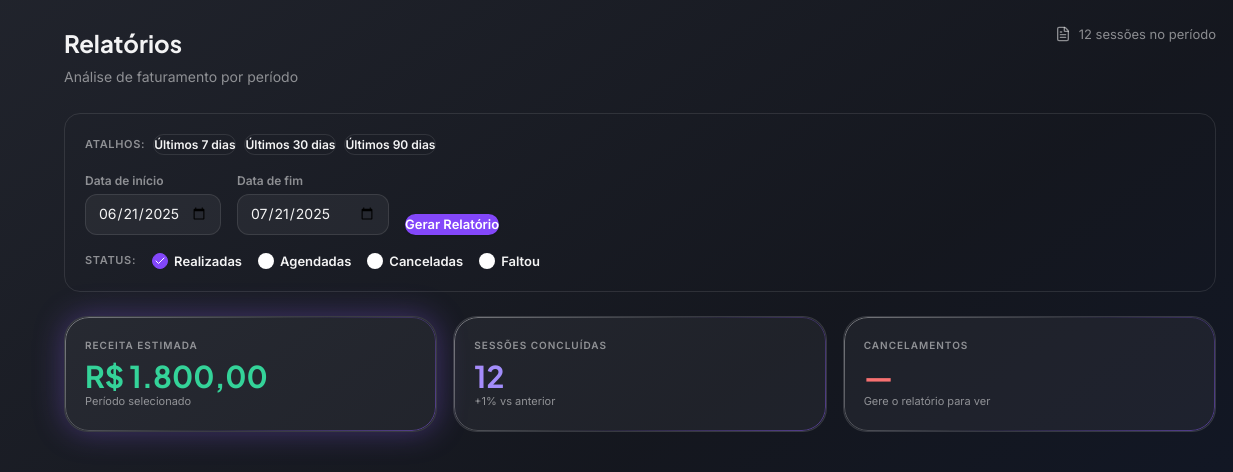
Test case: ReportsPage › preset "Últimos 7 dias" atualiza o campo de data de início
This screenshot has width=1233, height=472.
Click the button "Últimos 7 dias" at (195, 144), box [153, 134, 236, 155]
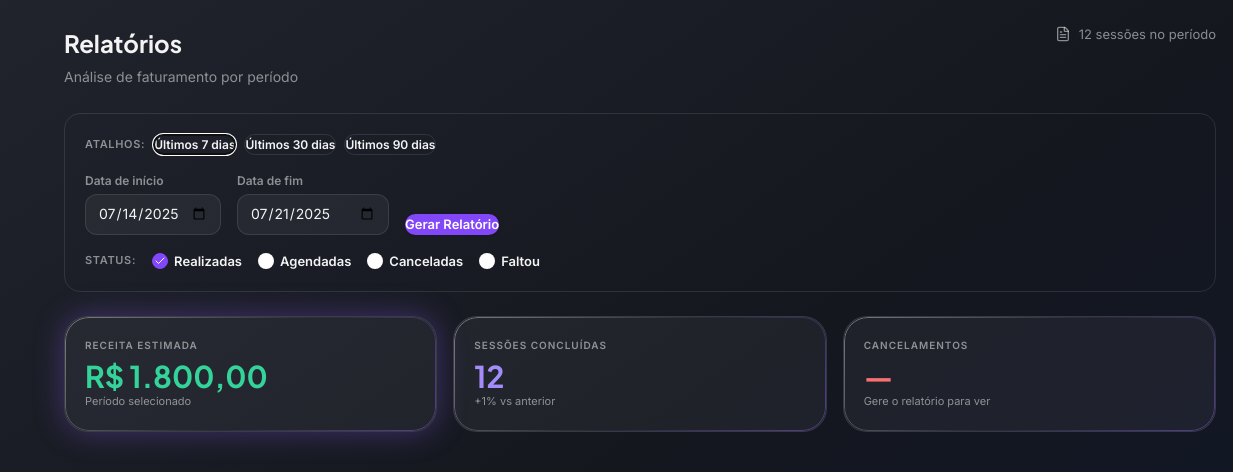
expect the date field labelled "Data de início" holds "2025-07-14": met, box [85, 194, 221, 235]
